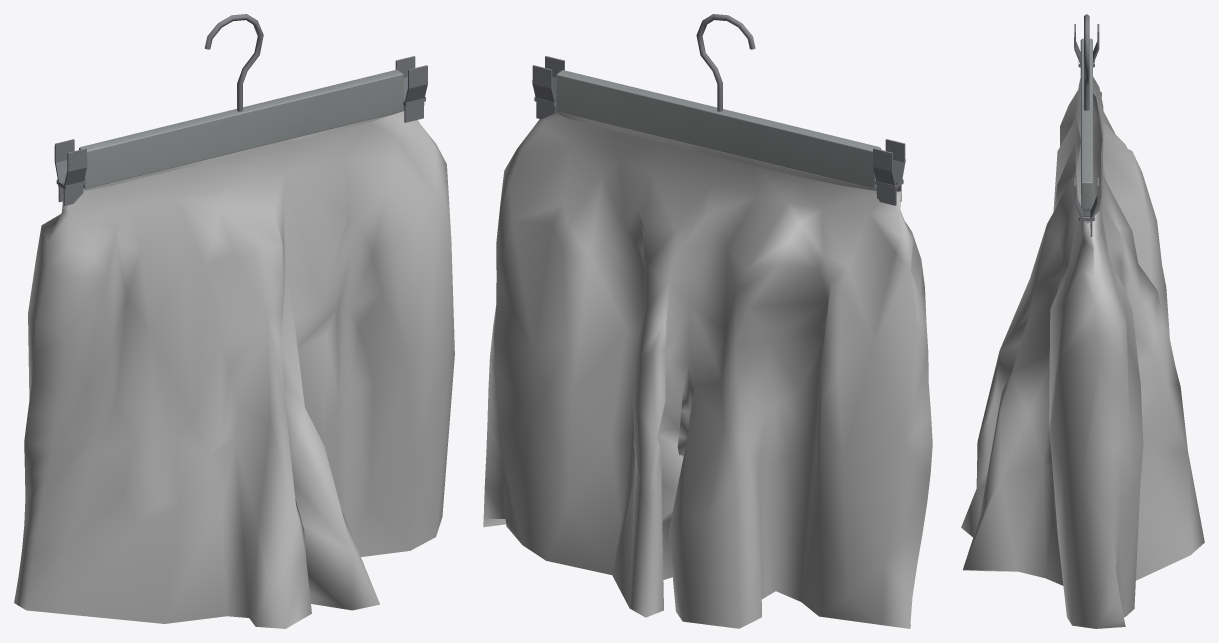
Rendered from swimshorts.FBX.
3 views of the same model, side by side, from view 1: azimuth 30°, elevation 25°; view 2: azimuth 150°, elevation 25°; view 3: azimuth 270°, elevation 25° (orthographic). The views are drawn at different scales.
Visible parts, largest first — view 1: swimshorts_LOD0, _Hanger-2_LOD0; view 2: swimshorts_LOD0, _Hanger-2_LOD0; view 3: swimshorts_LOD0, _Hanger-2_LOD0.
Part boxes in pixels (box(x1,y1,x2,y2)): swimshorts_LOD0: box(14, 111, 454, 628); _Hanger-2_LOD0: box(54, 14, 427, 205); swimshorts_LOD0: box(483, 110, 932, 628); _Hanger-2_LOD0: box(532, 14, 905, 205); swimshorts_LOD0: box(961, 76, 1204, 628); _Hanger-2_LOD0: box(1074, 14, 1099, 236).
Size of what is drawn, in the model's own units: 38.38 by 20.2 by 49.04.
